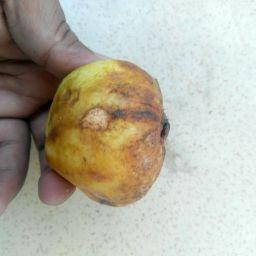guava: (40, 54, 174, 208)
